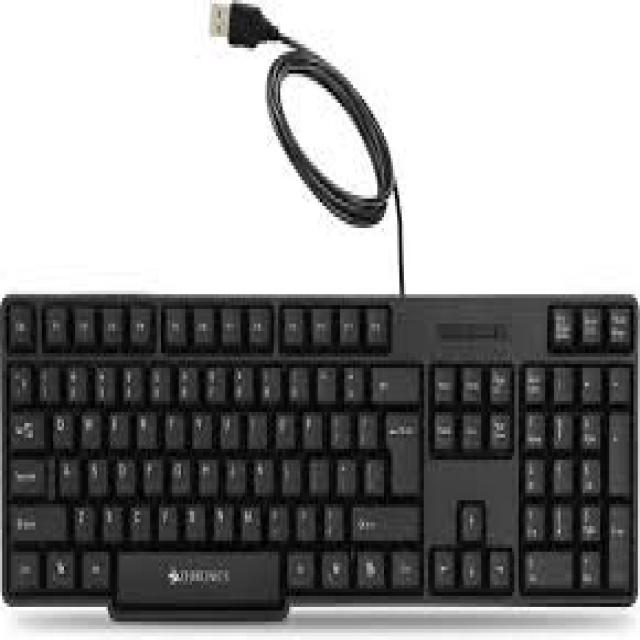others: (2, 272, 638, 625)
